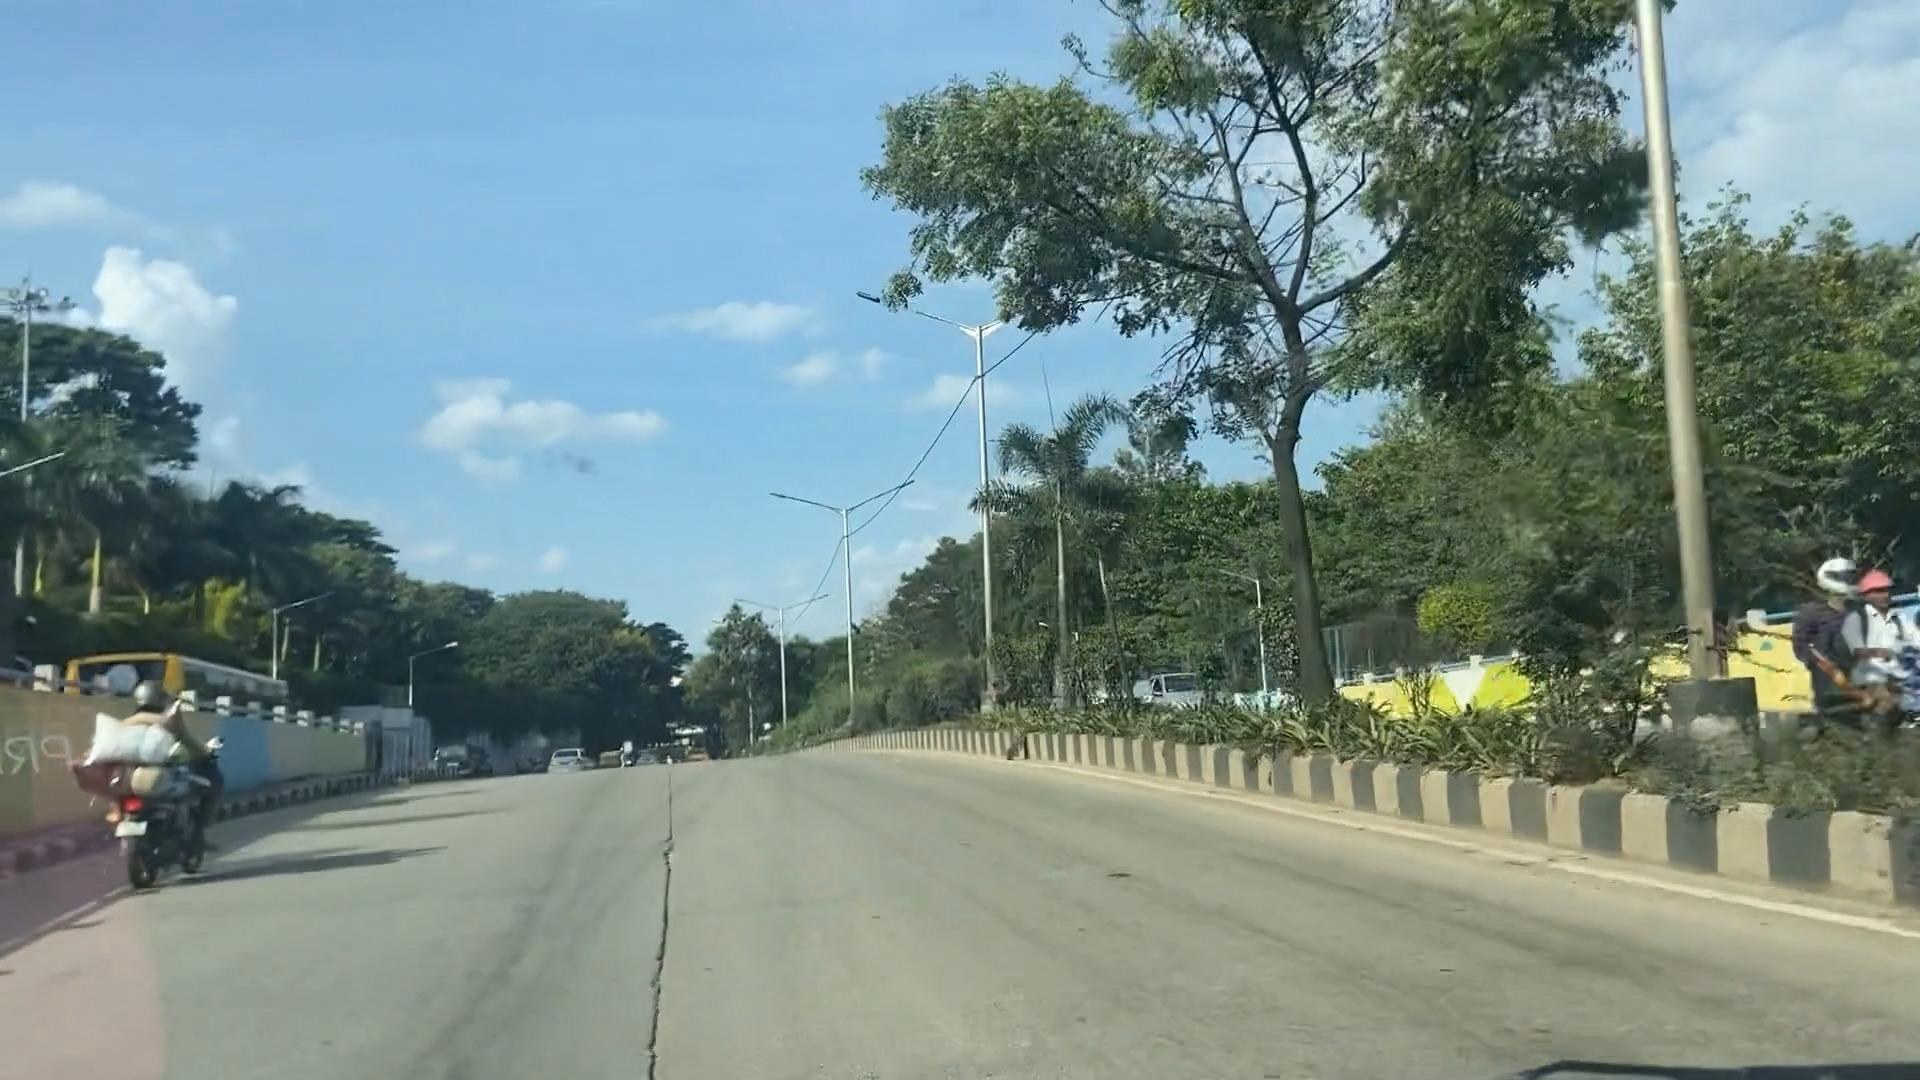LMV: (107, 675, 220, 891)
RoadDamages: (587, 907, 761, 1068), (597, 769, 700, 895)
